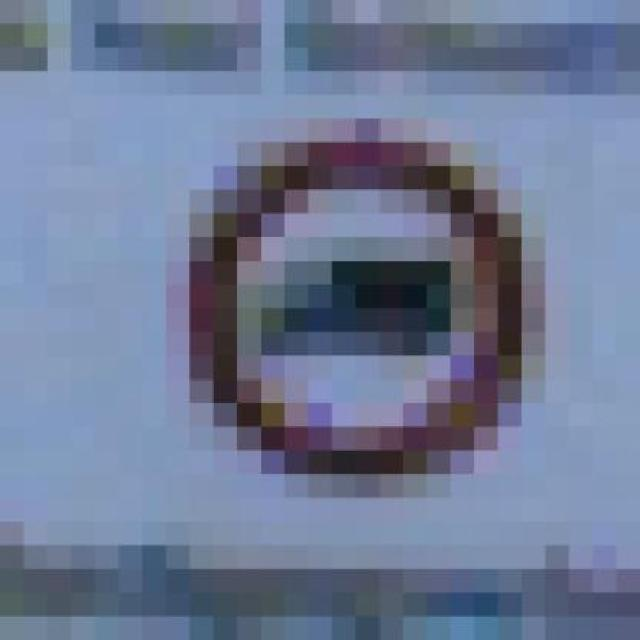Truck traffic is prohibited: (170, 92, 525, 519)
